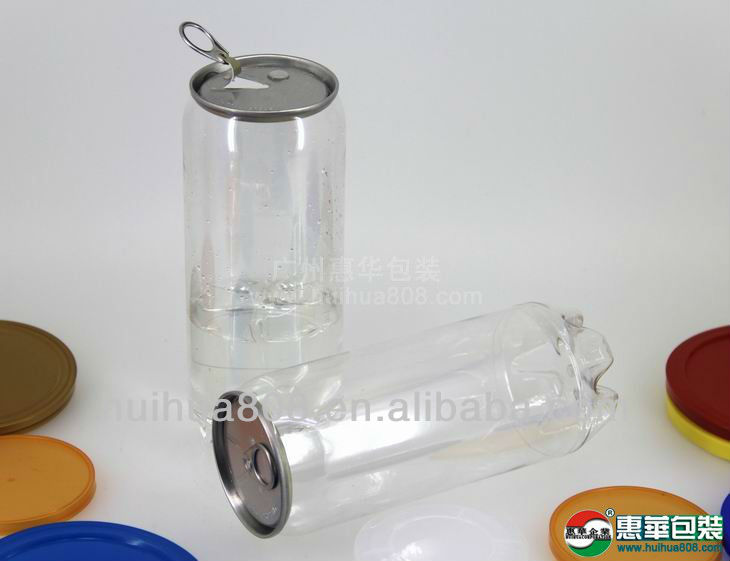Rec_Plastic: (197, 291, 632, 534), (165, 61, 361, 419)
